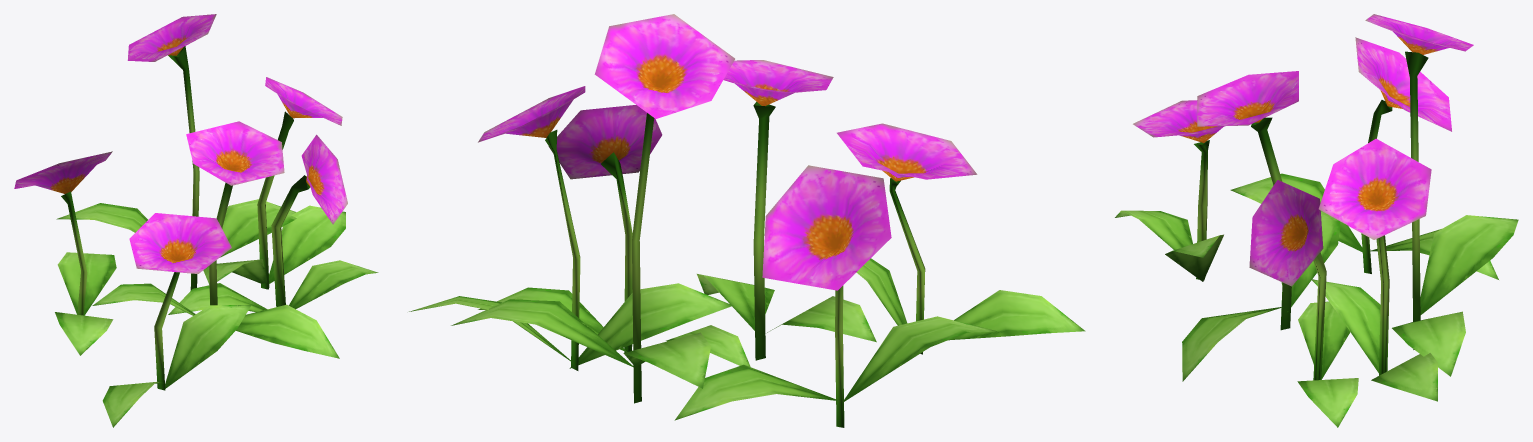
File: sb_obj_nature004_Flower01c.fbx
The picture shows the model from 3 angles, left to right: view 1: azimuth 30°, elevation 25°; view 2: azimuth 150°, elevation 25°; view 3: azimuth 270°, elevation 25°; orthographic projection. The views are drawn at different scales.
Visible parts, largest first — view 1: sb_obj_nature004_Flower01a; view 2: sb_obj_nature004_Flower01a; view 3: sb_obj_nature004_Flower01a.
Part boxes in pixels (bbox=[...]): sb_obj_nature004_Flower01a: bbox=[14, 14, 378, 427]; sb_obj_nature004_Flower01a: bbox=[409, 14, 1085, 427]; sb_obj_nature004_Flower01a: bbox=[1115, 14, 1518, 427].
Size of the model in its own units: 0.5341 by 0.3915 by 0.4295.
